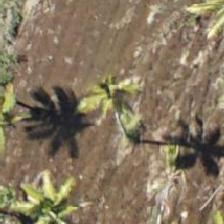coconut_tree: (76, 47, 166, 137), (24, 152, 114, 223)
